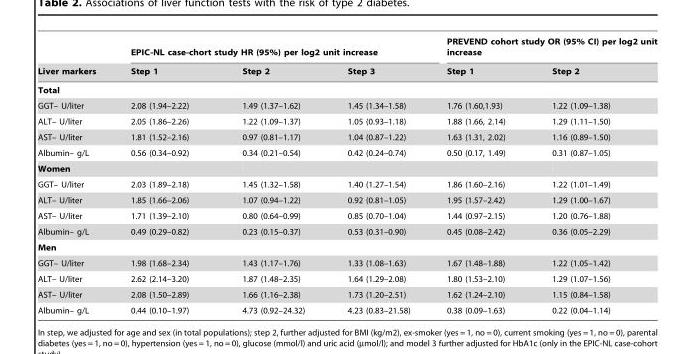table: (36, 36, 656, 314)
table column: (527, 36, 656, 314), (214, 36, 325, 314), (112, 36, 214, 314), (325, 36, 427, 314), (427, 36, 527, 314), (36, 36, 112, 314)
table column header: (36, 36, 656, 80)
table projected row header: (36, 80, 656, 97), (36, 160, 656, 176), (36, 239, 656, 255)
table row: (36, 36, 656, 61), (36, 61, 656, 80), (36, 80, 656, 97), (36, 97, 656, 113), (36, 113, 656, 129), (36, 144, 656, 160), (36, 160, 656, 176), (36, 176, 656, 192), (36, 207, 656, 223), (36, 223, 656, 239), (36, 239, 656, 255), (36, 270, 656, 286), (36, 286, 656, 302), (36, 129, 656, 144), (36, 192, 656, 207), (36, 255, 656, 270), (36, 302, 656, 314)
table spanning cell: (112, 36, 427, 61), (427, 36, 656, 61), (36, 36, 112, 80)
